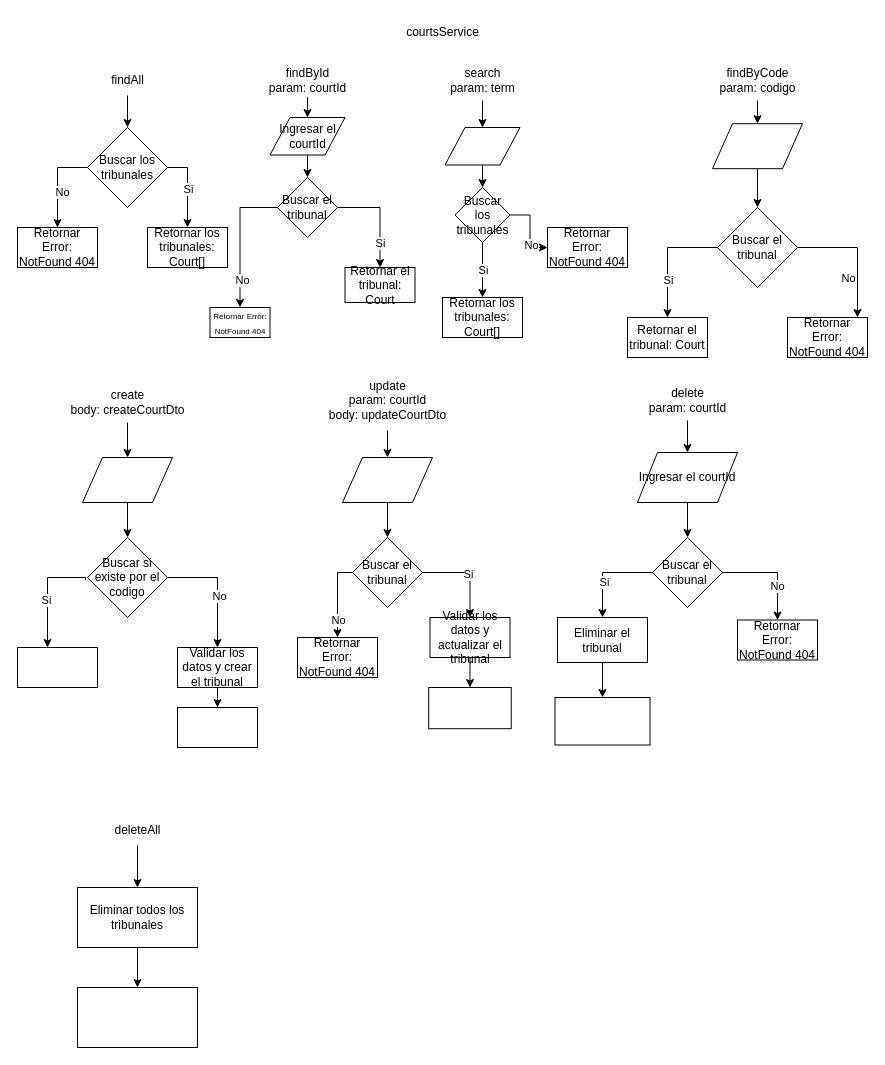
The diagram is 885 pixels wide and 1065 high, and some of its shapes have lost their labels. Here are the shapes that lost their labels. From the top down, the box of each, then its label:
(444, 126, 520, 165): Ingresar el term
(712, 123, 802, 169): Ingresar el codigo
(82, 456, 172, 502): Ingresar el createCourtDto
(342, 456, 432, 502): Ingresar el courtId y el updateCourtDto
(16, 646, 98, 688): Retornar Error: BadRequestExcep
(176, 706, 258, 748): Retornar el nuevo tribunal: Court
(428, 686, 511, 729): Retornar el tribunal actualizado: Court
(554, 696, 650, 745): Retornar message: "Tribunal eliminado con exito"
(76, 986, 198, 1048): Retornar message: "Tribunales eliminados con exito"
